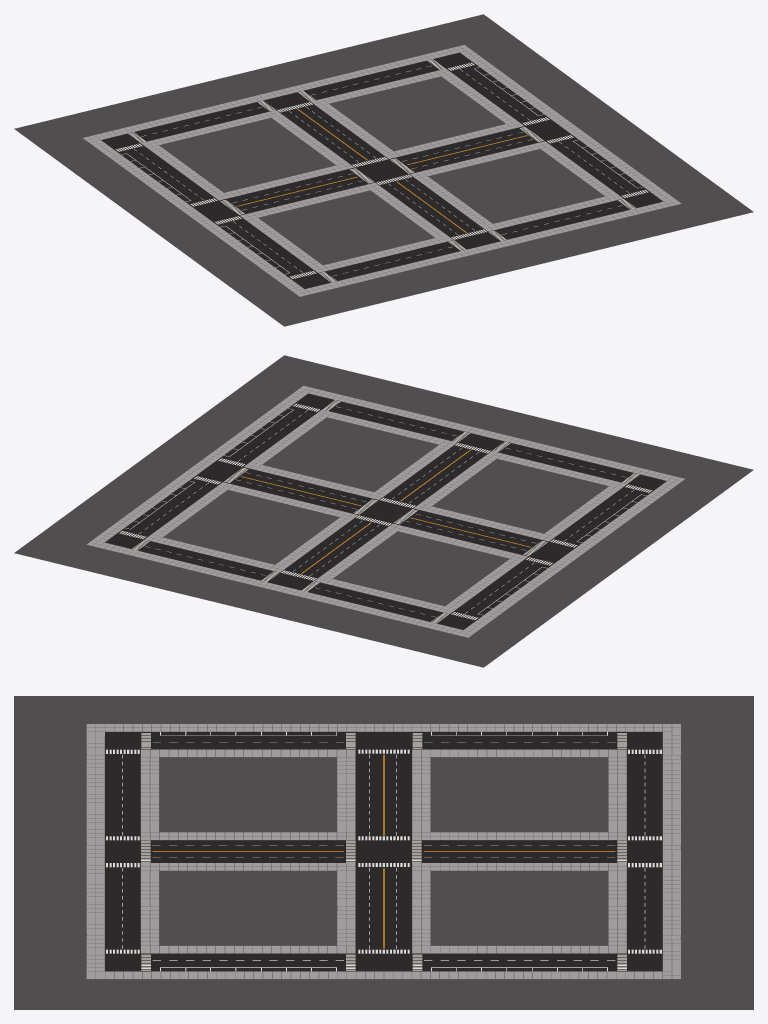
The model's file is Floor.glb.
3 views of the same model, one above another, from view 1: azimuth 30°, elevation 25°; view 2: azimuth 150°, elevation 25°; view 3: azimuth 270°, elevation 25° (orthographic). The views are drawn at different scales.
Visible parts, largest first — view 1: Floor; view 2: Floor; view 3: Floor.
Boxes of the visible parts, x1,y1,x2,y2 form: Floor: (14,14,753,326); Floor: (14,355,753,667); Floor: (14,696,753,1009).
Size of the model in its own units: 326 by 0.155 by 325.
1 material, 1 textured.
